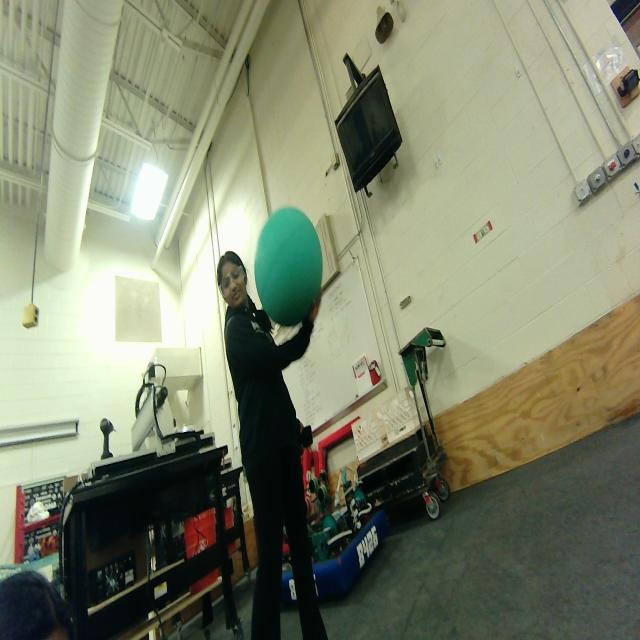algae: (255, 207, 324, 322)
